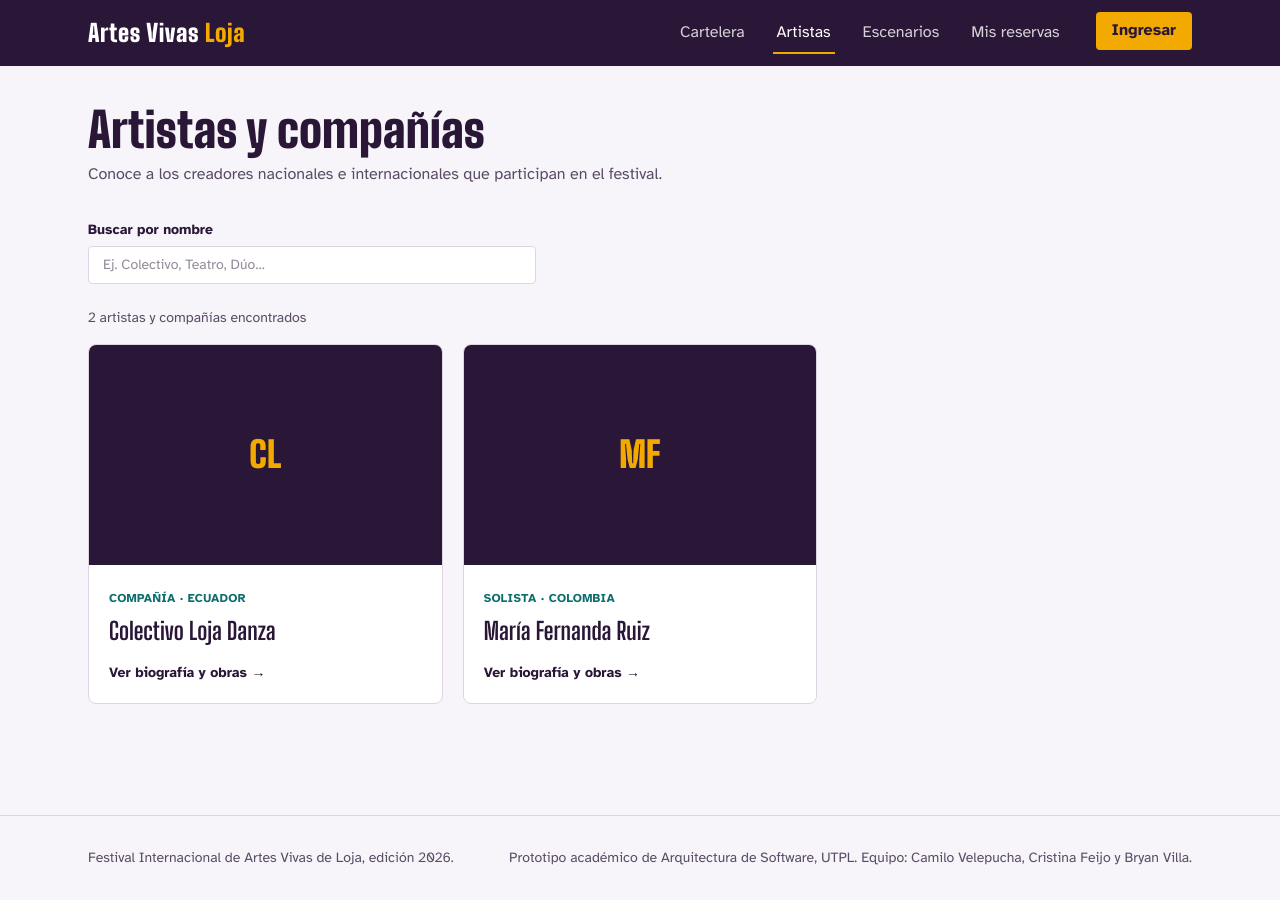
Test: Artistas (/artistas y /artistas/:id) › lista artistas y filtra por nombre al escribir en el buscador
The width and height of the screenshot is (1280, 900).
Expected: the heading "Colectivo Loja Danza" is shown, [109,616,276,645]
Expected: the heading "María Fernanda Ruiz" is shown, [484,616,650,645]
In the search field labelled "Buscar por nombre": (312, 265) [88,246,536,284], type "Mar"
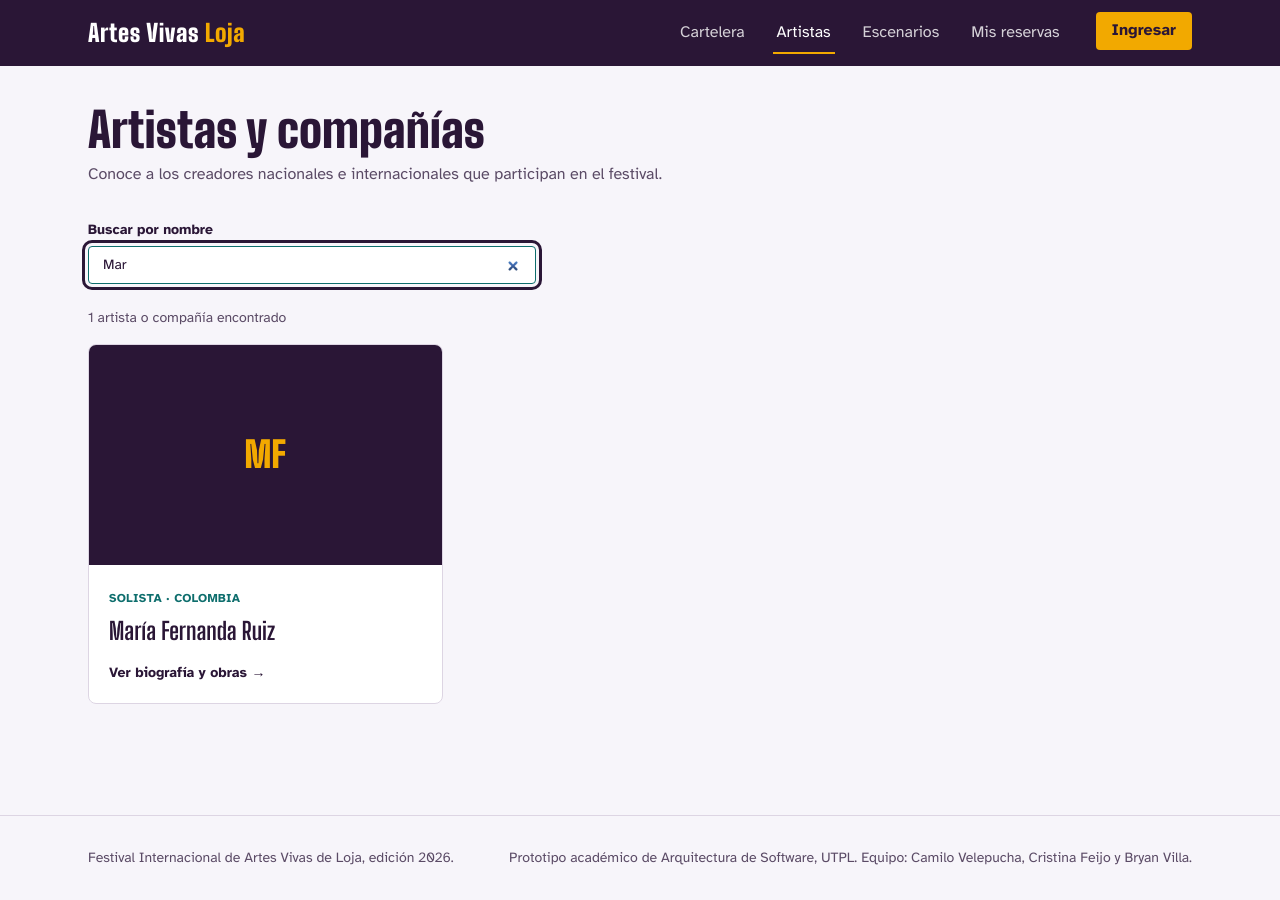
Result: the link "Colectivo Loja Danza" is gone
